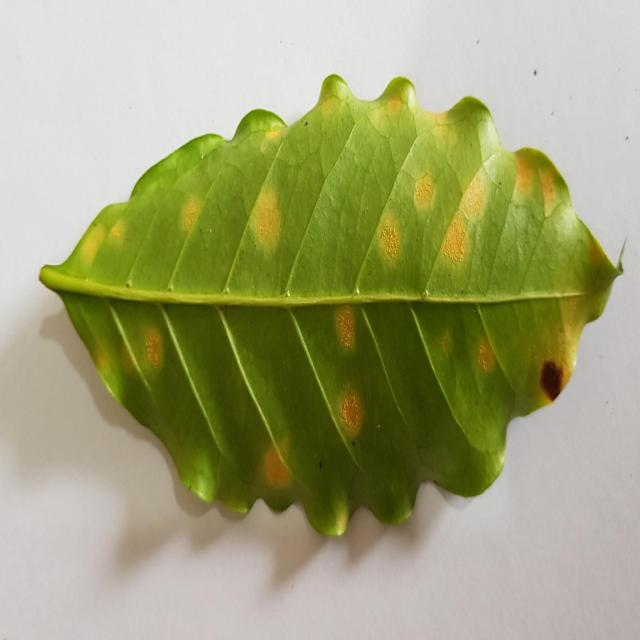rust: (241, 187, 282, 261), (376, 207, 406, 269), (437, 205, 466, 265), (258, 438, 292, 489), (136, 326, 166, 382), (458, 167, 491, 216), (539, 358, 572, 402), (537, 155, 561, 214), (473, 335, 501, 382), (514, 148, 538, 199), (178, 191, 202, 236), (333, 306, 356, 351), (413, 172, 435, 217), (340, 392, 362, 436), (96, 344, 118, 388), (584, 231, 604, 271), (88, 221, 105, 264), (422, 111, 447, 140), (108, 211, 127, 247), (260, 127, 286, 152), (385, 87, 403, 118), (439, 325, 453, 361), (121, 344, 136, 375), (322, 96, 338, 122), (282, 433, 289, 460)
